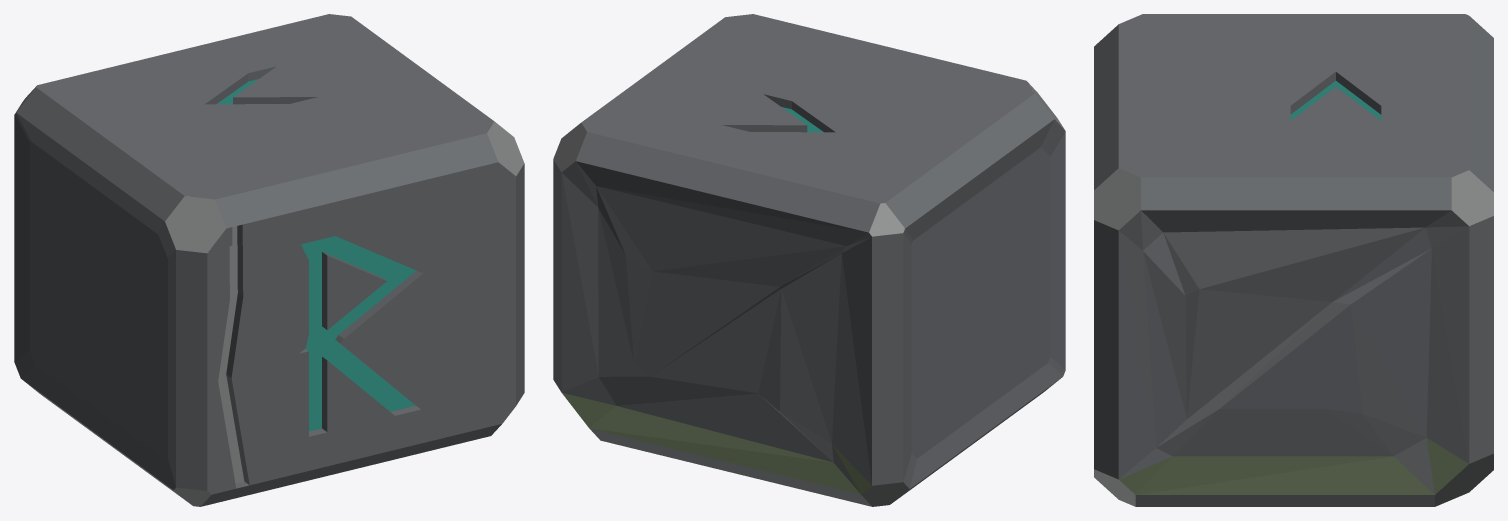
The model's file is glowing-rune-stone-5a5558.glb.
3 renders of one model, left to right at view 1: azimuth 30°, elevation 25°; view 2: azimuth 150°, elevation 25°; view 3: azimuth 270°, elevation 25°, orthographic. The views are drawn at different scales.
Visible parts, largest first — view 1: stone; view 2: stone; view 3: stone.
Part boxes in pixels (x1,y1,x2,y2): stone: [14, 14, 524, 506]; stone: [553, 14, 1065, 506]; stone: [1094, 14, 1493, 506].
Bounding box in the file's own units: 0.6 × 0.5 × 0.55.
